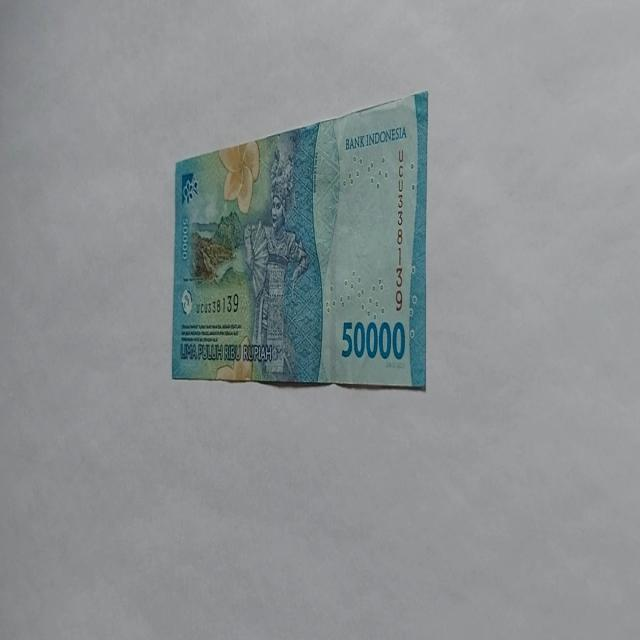lima puluh ribu rupiah: (170, 88, 430, 390), (343, 124, 408, 152)
